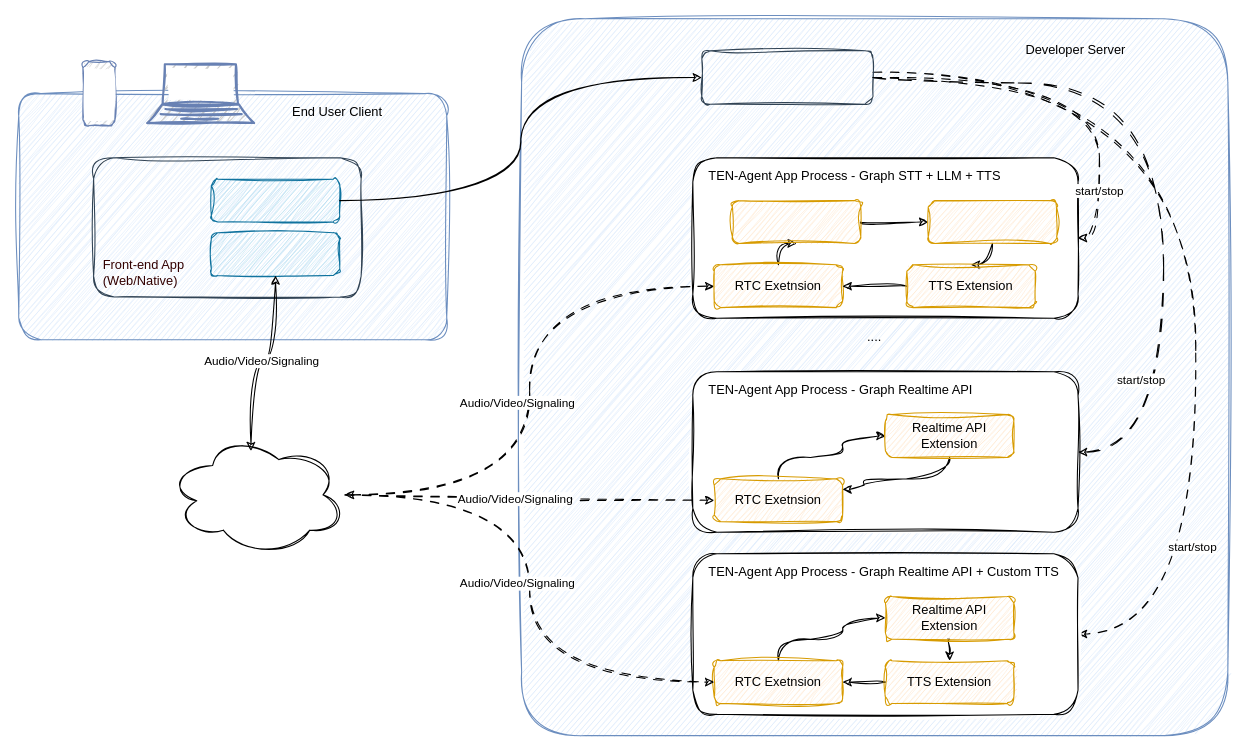
Some shapes in this 1247 by 754 pixel diagram are drawn without their labels. The centre of each missing label's shape, as x and y in pixels:
"ASR Extension" belongs at point (796, 221).
"HTTP Client" belongs at point (275, 200).
"LLM Extension" belongs at point (992, 221).
"RTC Client SDK" belongs at point (275, 254).
"RTC Network" belongs at point (256, 494).
"Web Server" belongs at point (787, 77).
